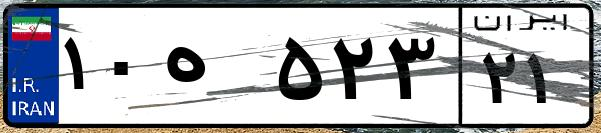0: (110, 28, 158, 98)
1: (57, 26, 110, 100), (525, 38, 570, 115)
2: (330, 28, 385, 110), (475, 38, 525, 113)
3: (385, 28, 445, 110)
5: (270, 28, 330, 110)
ه: (158, 20, 270, 120)
